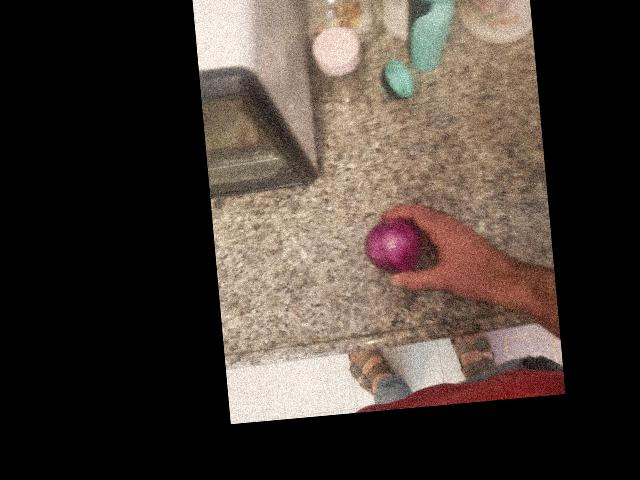onion: (223, 125, 291, 190)
